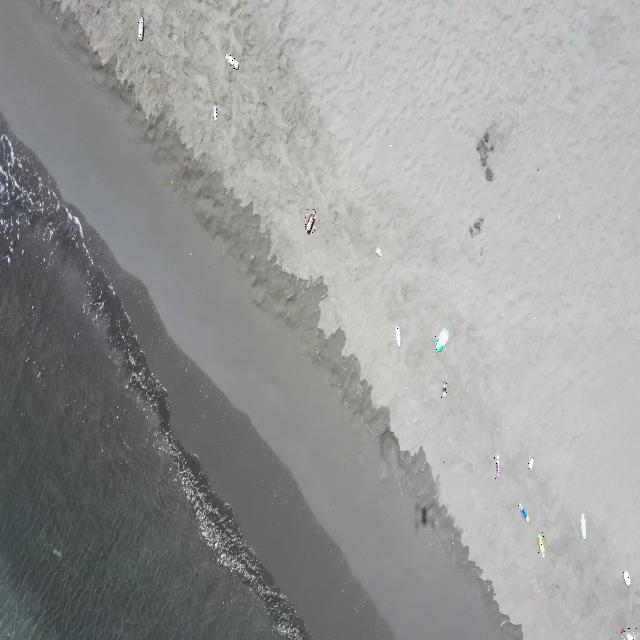Garbage: (415, 503, 435, 529), (435, 328, 447, 351), (304, 208, 315, 233), (224, 54, 238, 68), (620, 627, 635, 639), (517, 503, 527, 520), (537, 532, 544, 556), (580, 513, 586, 539), (494, 453, 500, 477), (623, 569, 630, 587), (138, 16, 143, 40), (420, 507, 427, 524), (440, 380, 447, 396), (625, 628, 635, 639), (395, 326, 400, 346), (212, 103, 217, 120), (52, 547, 60, 556), (626, 632, 635, 639), (527, 456, 532, 468), (375, 247, 380, 256), (622, 628, 623, 631)
